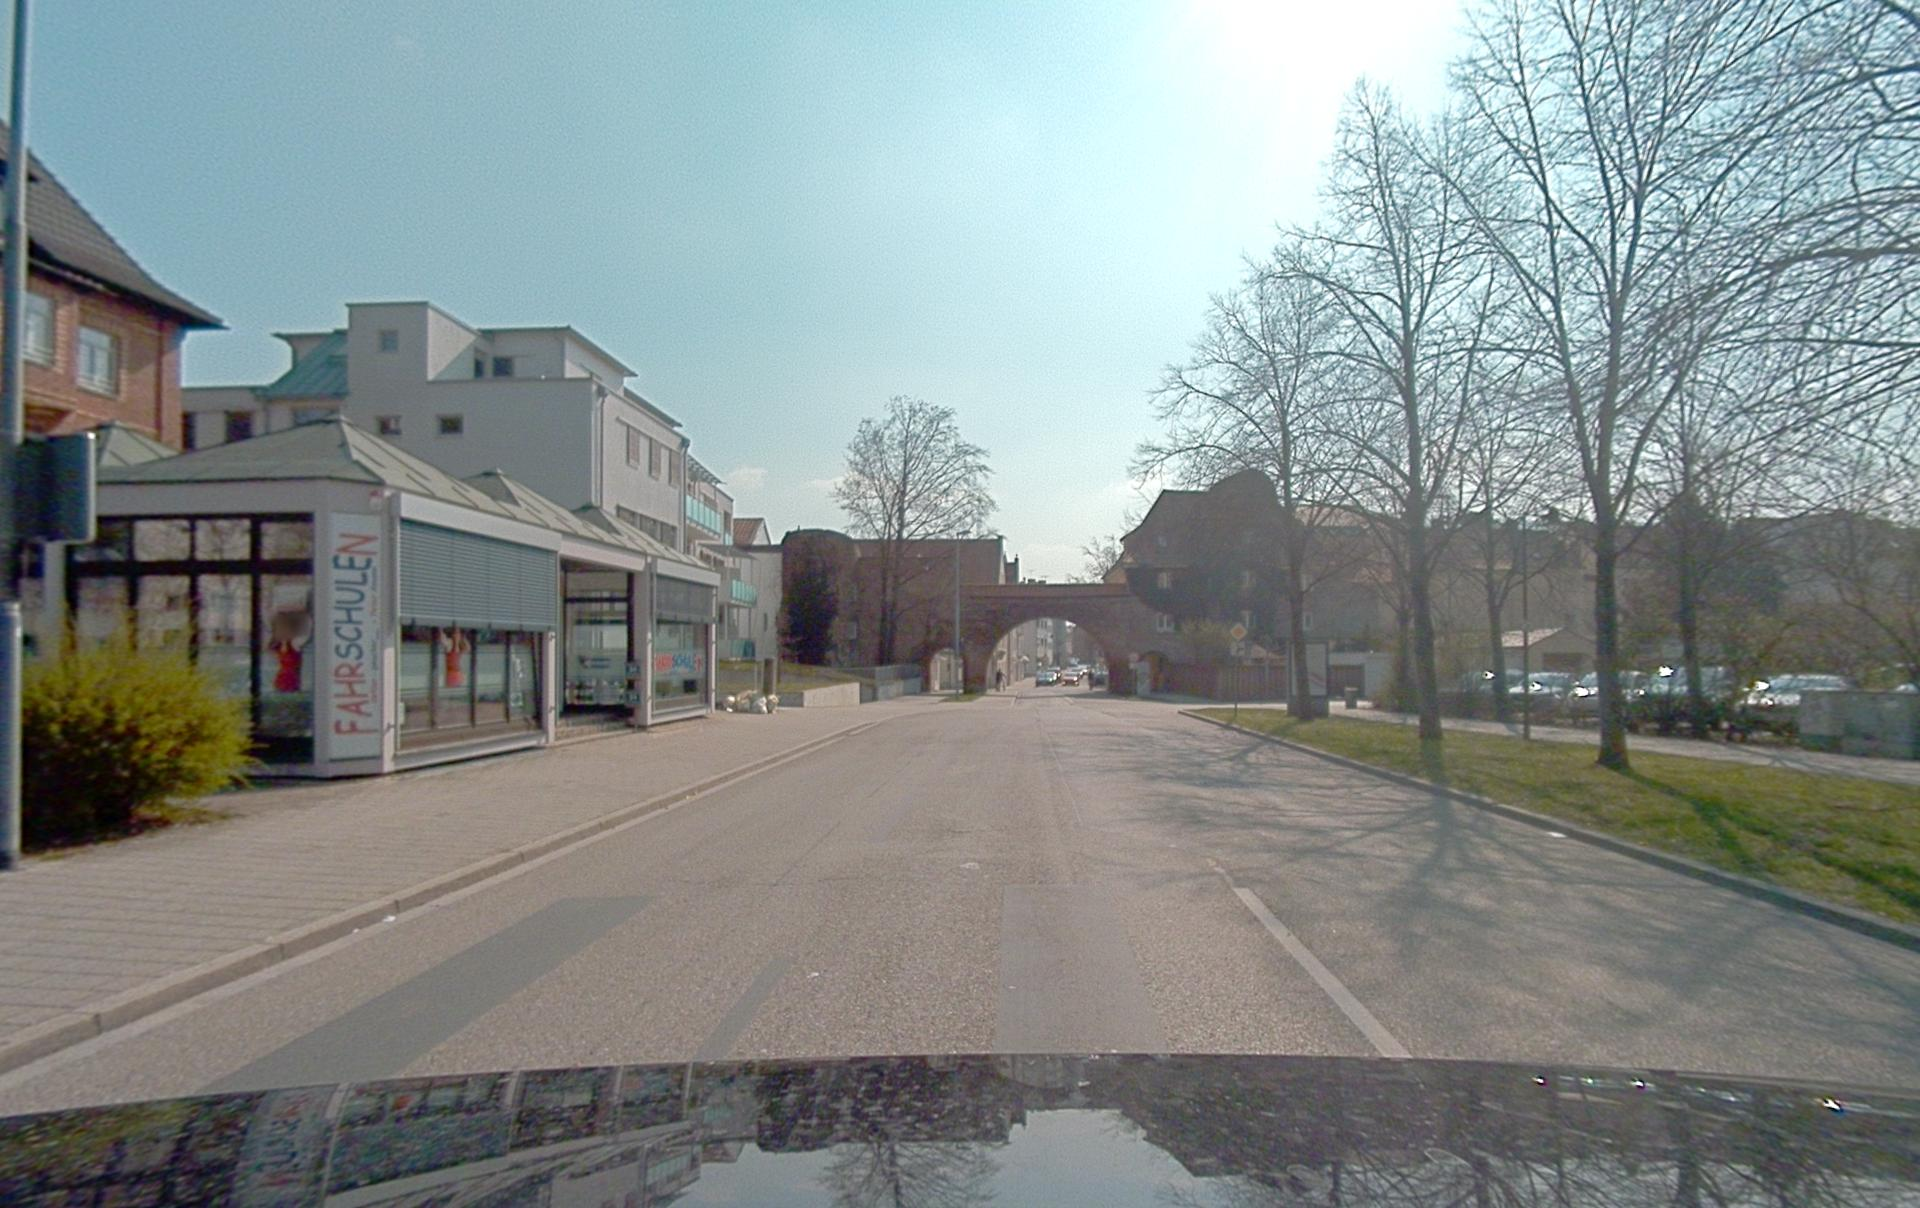car: (1743, 672, 1849, 709), (1035, 669, 1058, 686)
